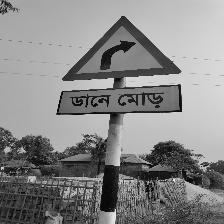Right-turn: (58, 16, 183, 116)
